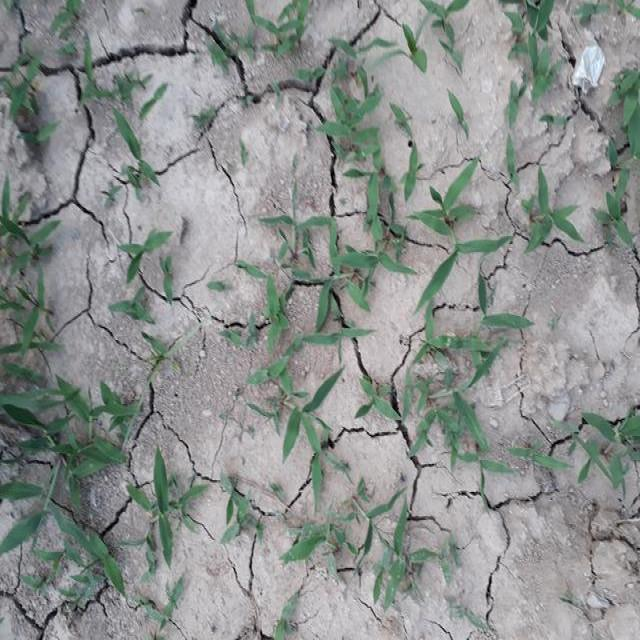weed: (269, 210, 526, 458), (9, 402, 129, 602), (1, 212, 64, 392), (342, 493, 432, 612), (330, 33, 384, 200), (139, 458, 193, 574), (581, 425, 640, 495), (114, 117, 160, 203)
